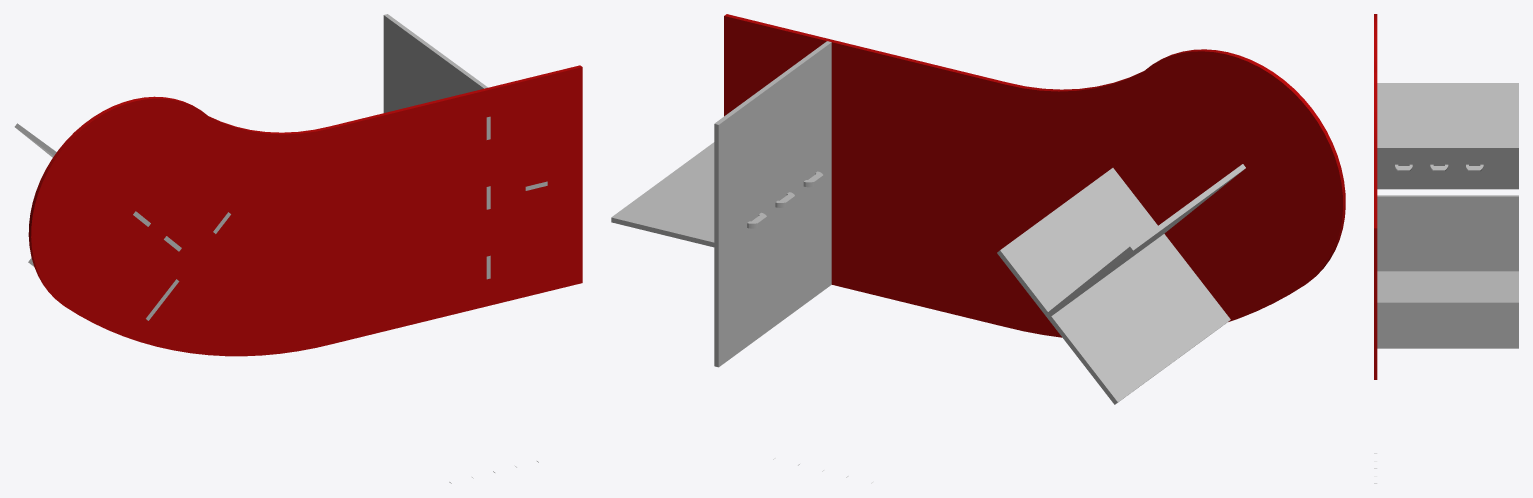
Rendered from Table.fbx.
3 renders of one model, left to right at view 1: azimuth 30°, elevation 25°; view 2: azimuth 150°, elevation 25°; view 3: azimuth 270°, elevation 25°, orthographic. The views are drawn at different scales.
Visible parts, largest first — view 1: ac53143b-4a0b-4d33-958e-860af88c1c10, a1c89779-e6cd-4291-9566-cad2c997aa99; view 2: ac53143b-4a0b-4d33-958e-860af88c1c10, a1c89779-e6cd-4291-9566-cad2c997aa99, a6da785d-a8d5-452a-bfd1-a3d017256637, d8047b11-9ce7-44ff-90c4-53ef1c4dad27, ad1bc7b1-ee0a-412e-8489-79bd0b3affc7; view 3: a1c89779-e6cd-4291-9566-cad2c997aa99, ad1bc7b1-ee0a-412e-8489-79bd0b3affc7, a6da785d-a8d5-452a-bfd1-a3d017256637, d8047b11-9ce7-44ff-90c4-53ef1c4dad27, ac53143b-4a0b-4d33-958e-860af88c1c10.
Boxes of the visible parts, x1,y1,x2,y2 form: ac53143b-4a0b-4d33-958e-860af88c1c10: (28,65,582,356); a1c89779-e6cd-4291-9566-cad2c997aa99: (383,14,490,279); ac53143b-4a0b-4d33-958e-860af88c1c10: (724,14,1345,337); a1c89779-e6cd-4291-9566-cad2c997aa99: (714,41,831,367); a6da785d-a8d5-452a-bfd1-a3d017256637: (997,168,1230,404); d8047b11-9ce7-44ff-90c4-53ef1c4dad27: (611,142,823,247); ad1bc7b1-ee0a-412e-8489-79bd0b3affc7: (1048,164,1245,316); a1c89779-e6cd-4291-9566-cad2c997aa99: (1377,195,1518,348); ad1bc7b1-ee0a-412e-8489-79bd0b3affc7: (1377,83,1518,171); a6da785d-a8d5-452a-bfd1-a3d017256637: (1377,145,1518,189); d8047b11-9ce7-44ff-90c4-53ef1c4dad27: (1377,271,1518,305); ac53143b-4a0b-4d33-958e-860af88c1c10: (1374,14,1377,379).
Size of the model in its own units: 2404 by 1916 by 778.
